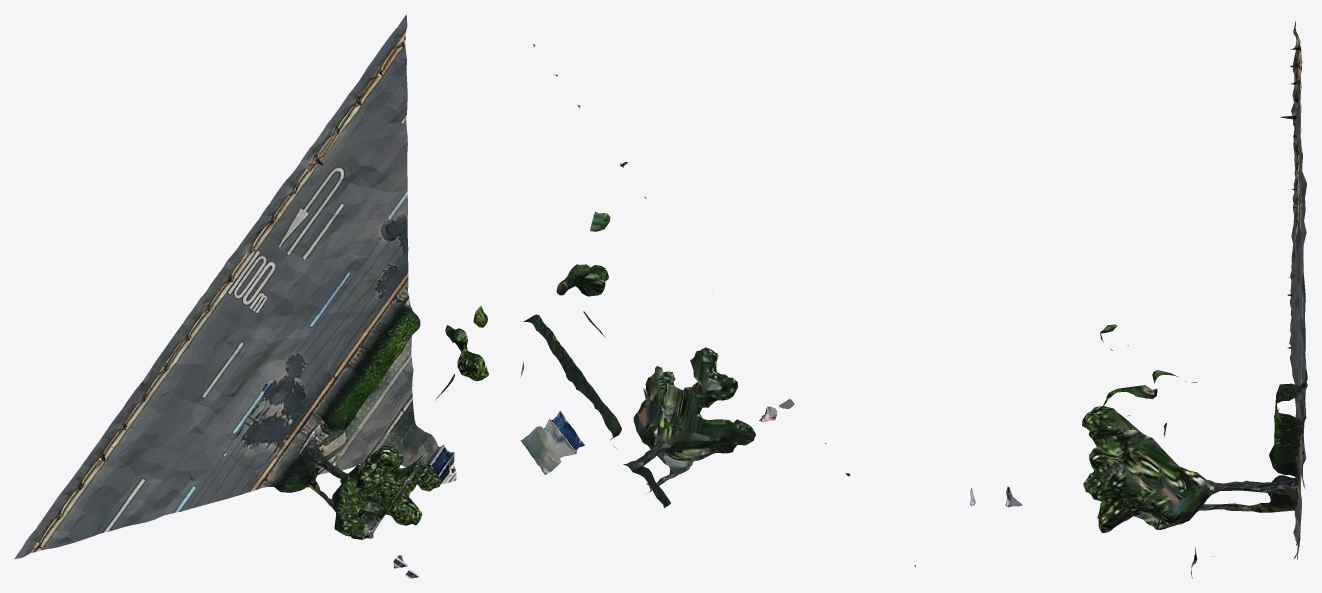
Rendered from Tile_+001_+004.obj_deoffset.glb.
The picture shows the model from 3 angles, left to right: view 1: azimuth 30°, elevation 25°; view 2: azimuth 150°, elevation 25°; view 3: azimuth 270°, elevation 25°; orthographic projection. The views are drawn at different scales.
Parts seen in each view (by area): view 1: Node; view 2: Node; view 3: Node.
Part boxes in pixels (box(x1,y1,x2,y2)): Node: box(14, 14, 488, 578); Node: box(520, 44, 915, 566); Node: box(970, 21, 1307, 578).
Size of the model in its own units: 22.91 by 24.26 by 13.01.
Materials: 1 (1 with a texture image).
